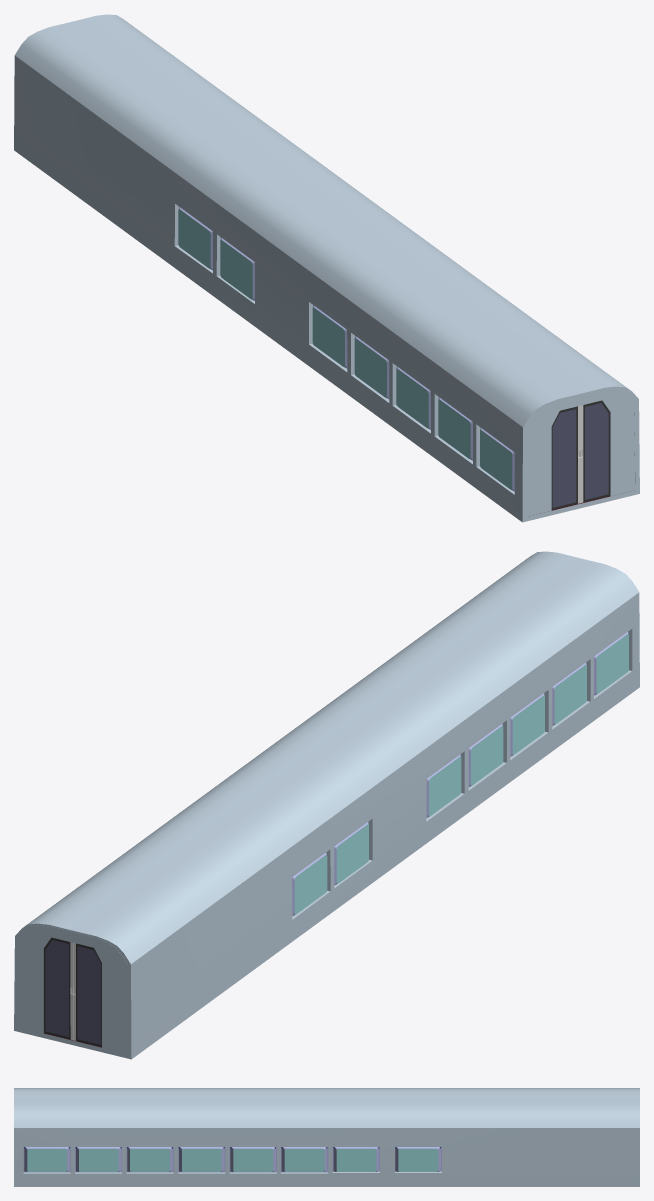
Rendered from Вагон_макет .fbx.
3 views of the same model, one above another, from view 1: azimuth 30°, elevation 25°; view 2: azimuth 150°, elevation 25°; view 3: azimuth 270°, elevation 25° (orthographic). The views are drawn at different scales.
Parts seen in each view (by area): view 1: Вагон, Стенка.001, Дверь2, Дверь1, Окно4, Окно5, Окно1, Окно15, Окно14, Окно3, Окно2; view 2: Вагон, Стенка.003, Дверь2.002, Дверь1.002, Окно15, Окно4, Окно5, Окно1, Окно14, Окно3, Окно2; view 3: Вагон, Окно10, Окно11, Окно6, Окно8, Окно9, Окно7, Окно12, Окно13.
Part boxes in pixels (x1,y1,x2,y2): Вагон: [14, 14, 639, 522]; Стенка.001: [527, 392, 635, 516]; Дверь2: [580, 400, 610, 502]; Дверь1: [551, 405, 580, 509]; Окно4: [354, 336, 389, 398]; Окно5: [312, 305, 347, 368]; Окно1: [480, 427, 514, 491]; Окно15: [178, 206, 212, 270]; Окно14: [220, 237, 254, 300]; Окно3: [396, 366, 430, 429]; Окно2: [438, 397, 472, 460]; Вагон: [14, 551, 639, 1059]; Стенка.003: [18, 925, 127, 1053]; Дверь2.002: [43, 937, 73, 1040]; Дверь1.002: [73, 943, 101, 1047]; Окно15: [292, 852, 327, 915]; Окно4: [468, 723, 503, 786]; Окно5: [426, 754, 461, 817]; Окно1: [594, 632, 628, 695]; Окно14: [334, 822, 368, 885]; Окно3: [510, 693, 544, 756]; Окно2: [552, 662, 586, 725]; Вагон: [14, 1088, 639, 1186]; Окно10: [229, 1147, 276, 1172]; Окно11: [281, 1147, 328, 1172]; Окно6: [23, 1147, 70, 1172]; Окно8: [178, 1147, 225, 1172]; Окно9: [126, 1147, 173, 1172]; Окно7: [75, 1147, 121, 1172]; Окно12: [332, 1147, 379, 1171]; Окно13: [395, 1147, 441, 1171].
Bounding box in the file's own units: 3.99 × 3.72 × 29.91.
